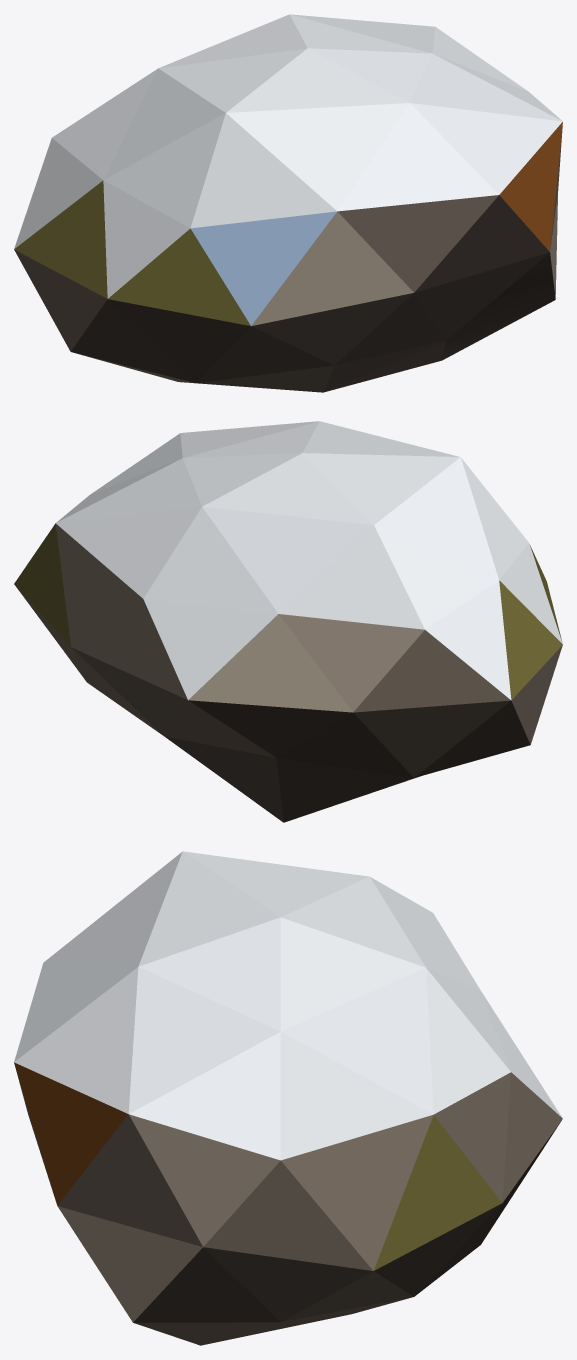
File: rs_boulder_b.glb
3 renders of one model, top to bottom at view 1: azimuth 30°, elevation 25°; view 2: azimuth 150°, elevation 25°; view 3: azimuth 270°, elevation 25°, orthographic. The views are drawn at different scales.
Parts seen in each view (by area): view 1: rs_boulder_b.001; view 2: rs_boulder_b.001; view 3: rs_boulder_b.001.
Part boxes in pixels (bbox=[...]): rs_boulder_b.001: bbox=[14, 14, 562, 392]; rs_boulder_b.001: bbox=[14, 421, 562, 822]; rs_boulder_b.001: bbox=[14, 851, 562, 1345].
Bounding box in the file's own units: 1.72 × 1.03 × 1.33.
